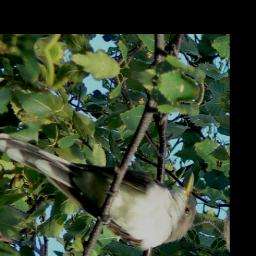Cuckoo: (0, 115, 204, 256)
